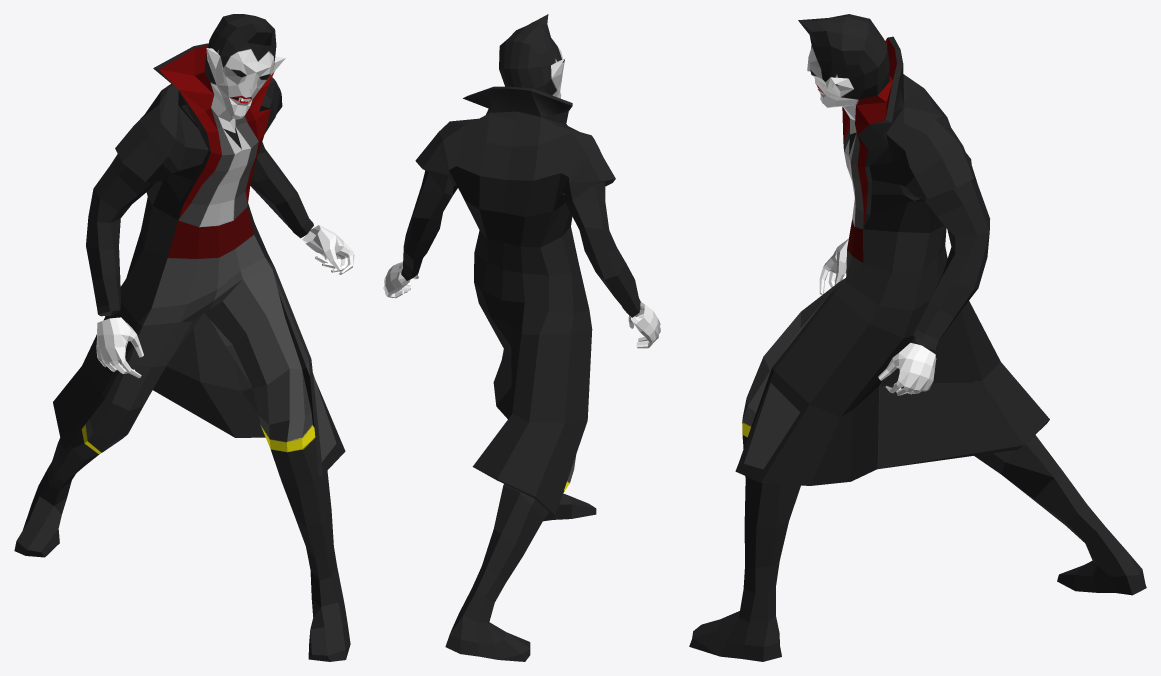
Rendered from VampireIdle(47).obj.
The picture shows the model from 3 angles, left to right: view 1: azimuth 30°, elevation 25°; view 2: azimuth 150°, elevation 25°; view 3: azimuth 270°, elevation 25°; orthographic projection. The views are drawn at different scales.
Visible parts, largest first — view 1: Plane002; view 2: Plane002; view 3: Plane002.
Part boxes in pixels (x1=…): Plane002: x1=14, y1=14, x2=354, y2=661; Plane002: x1=383, y1=14, x2=660, y2=661; Plane002: x1=689, y1=14, x2=1146, y2=661.
Bounding box in the file's own units: 146 × 299 × 201.
